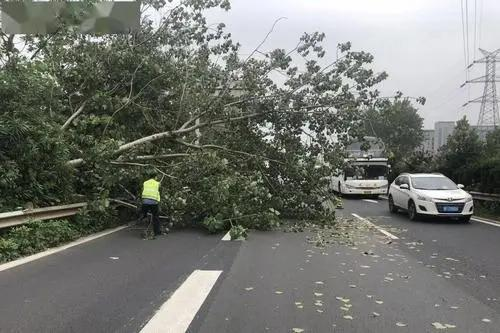Downstairs: (35, 16, 385, 234)
